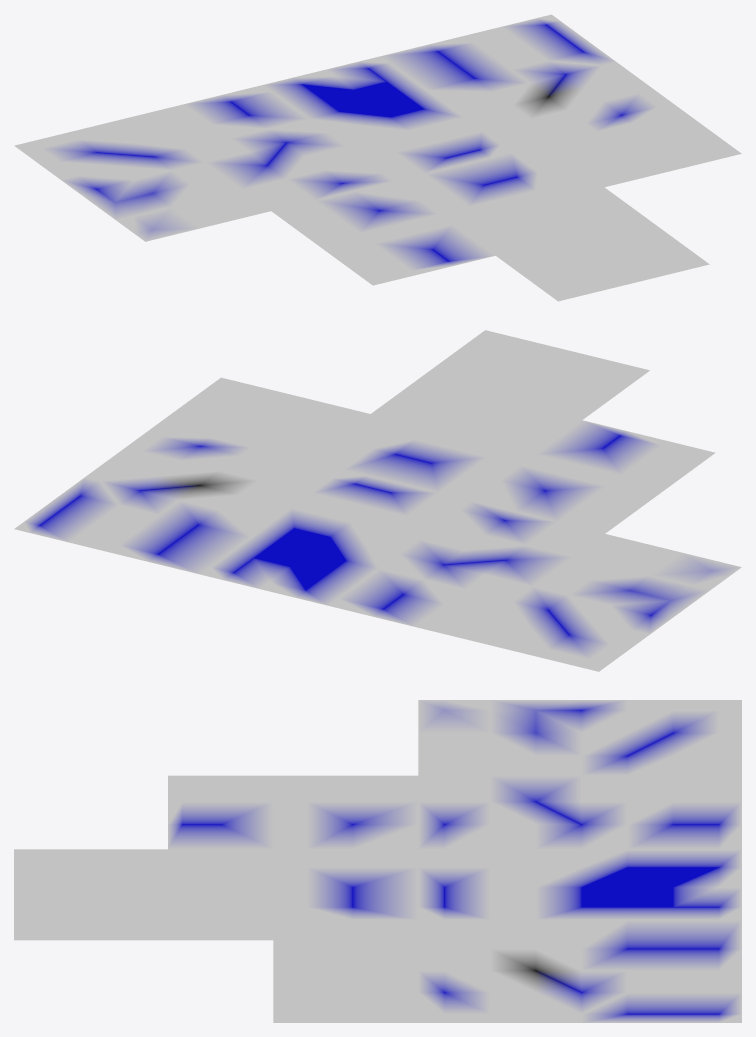
Rendered from SM_House_Floor_LOD1.fbx.
3 renders of one model, top to bottom at view 1: azimuth 30°, elevation 25°; view 2: azimuth 150°, elevation 25°; view 3: azimuth 270°, elevation 25°, orthographic. The views are drawn at different scales.
Visible parts, largest first — view 1: SM_House_Floor_LOD1_dup; view 2: SM_House_Floor_LOD1_dup; view 3: SM_House_Floor_LOD1_dup.
Part boxes in pixels (x1=…): SM_House_Floor_LOD1_dup: x1=14, y1=14, x2=741, y2=301; SM_House_Floor_LOD1_dup: x1=14, y1=330, x2=741, y2=671; SM_House_Floor_LOD1_dup: x1=14, y1=700, x2=741, y2=1022.
Bounding box in the file's own units: 1964 × 0.00029 × 1871.
